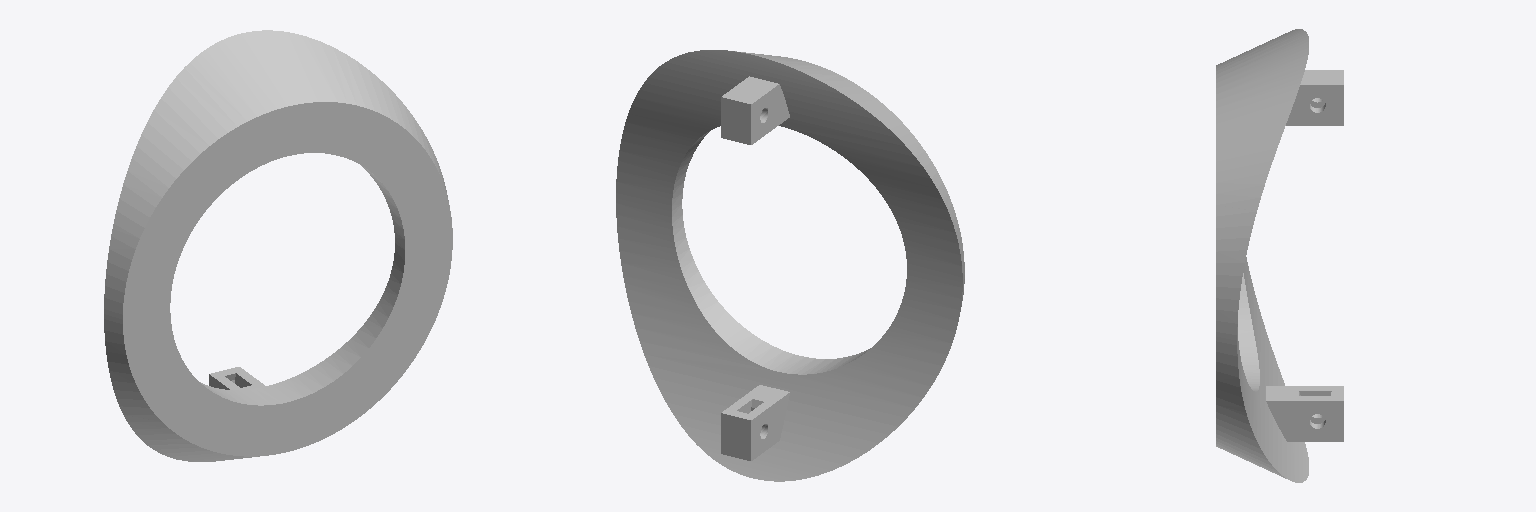
Rendered from HoseInsert-OutsideTubeCover.obj.
3 views of the same model, side by side, from view 1: azimuth 30°, elevation 25°; view 2: azimuth 150°, elevation 25°; view 3: azimuth 270°, elevation 25° (orthographic).
Parts seen in each view (by area): view 1: Half\Cover\Cover (2), Half\Cover\Cover, Half\NutHousing\NutHousing11; view 2: Half\Cover\Cover, Half\Cover\Cover (2), Half\NutHousing\NutHousing11, Half\NutHousing\NutHousing11 (2); view 3: Half\Cover\Cover (2), Half\Cover\Cover, Half\NutHousing\NutHousing11, Half\NutHousing\NutHousing11 (2).
Part boxes in pixels (x1,y1,x2,y2): Half\Cover\Cover (2): (104,30,452,319); Half\Cover\Cover: (104,239,452,461); Half\NutHousing\NutHousing11: (209,367,264,389); Half\Cover\Cover: (616,198,964,481); Half\Cover\Cover (2): (616,50,964,282); Half\NutHousing\NutHousing11: (721,385,789,460); Half\NutHousing\NutHousing11 (2): (721,76,789,144); Half\Cover\Cover (2): (1216,29,1308,340); Half\Cover\Cover: (1216,257,1308,482); Half\NutHousing\NutHousing11: (1266,386,1343,441); Half\NutHousing\NutHousing11 (2): (1286,70,1343,125).
Size of the model in its own units: 73.88 by 86.19 by 23.5.